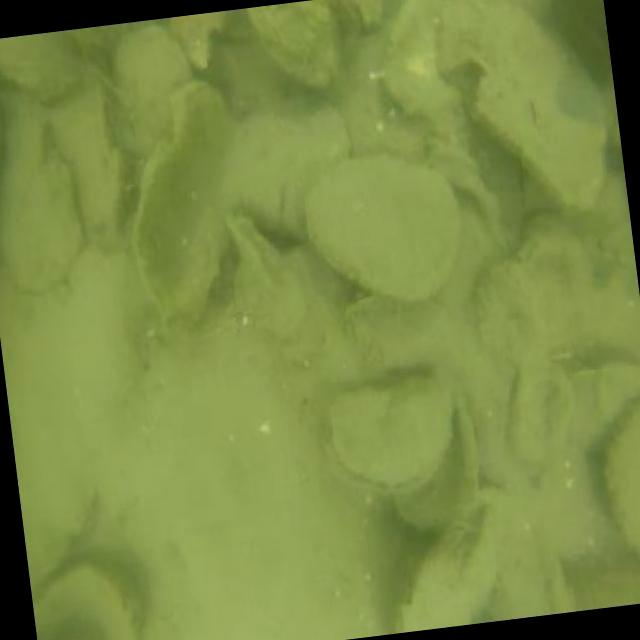Oyster-Closed: (439, 0, 606, 207), (128, 74, 230, 307), (305, 153, 460, 297), (221, 89, 347, 223), (0, 92, 79, 292), (325, 374, 452, 483), (520, 210, 598, 351), (50, 84, 119, 243), (118, 20, 188, 151), (248, 0, 342, 85), (474, 260, 547, 362), (509, 356, 570, 458), (573, 361, 639, 439), (605, 405, 639, 554), (0, 37, 79, 95)
Oyster-Open: (395, 494, 497, 626), (177, 210, 237, 328)
